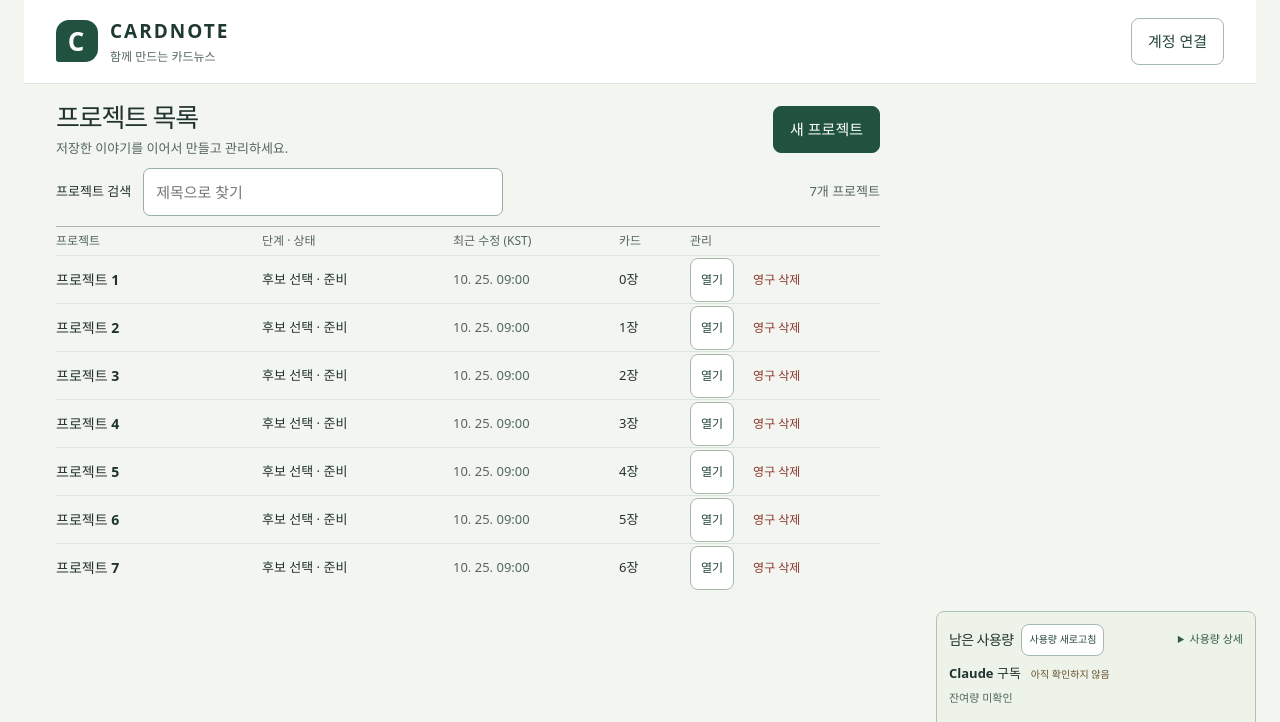
목록에서는 모델 선택을 숨기고 새 프로젝트·제작에서만 표시한다
expect the heading "프로젝트 목록" is shown: met, box [56,99,198,135]
expect the field labelled "Claude 모델" is not shown: met
Step 1. Click the button "새 프로젝트" → (827, 130), box [773,106,880,153]
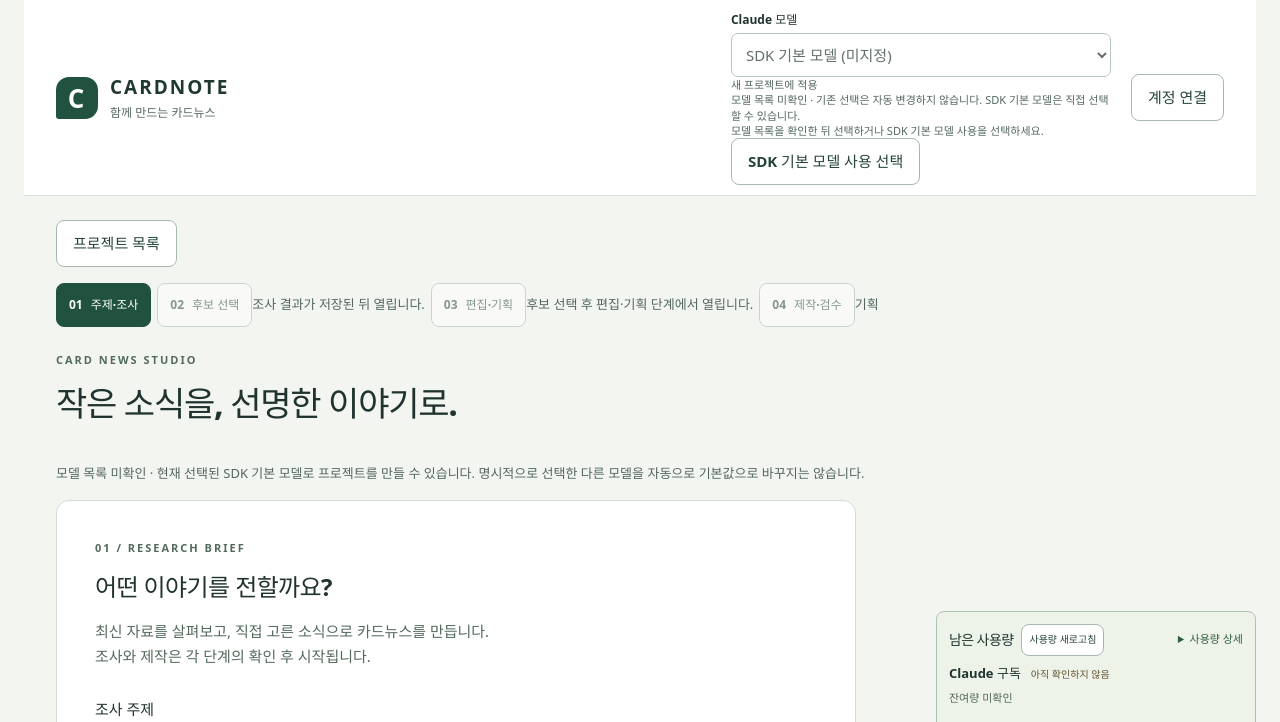
expect the dropdown labelled "Claude 모델" is shown: met, box [731,33,1111,77]
Step 2. Click the button "프로젝트 목록" → (116, 244), box [56,220,177,267]
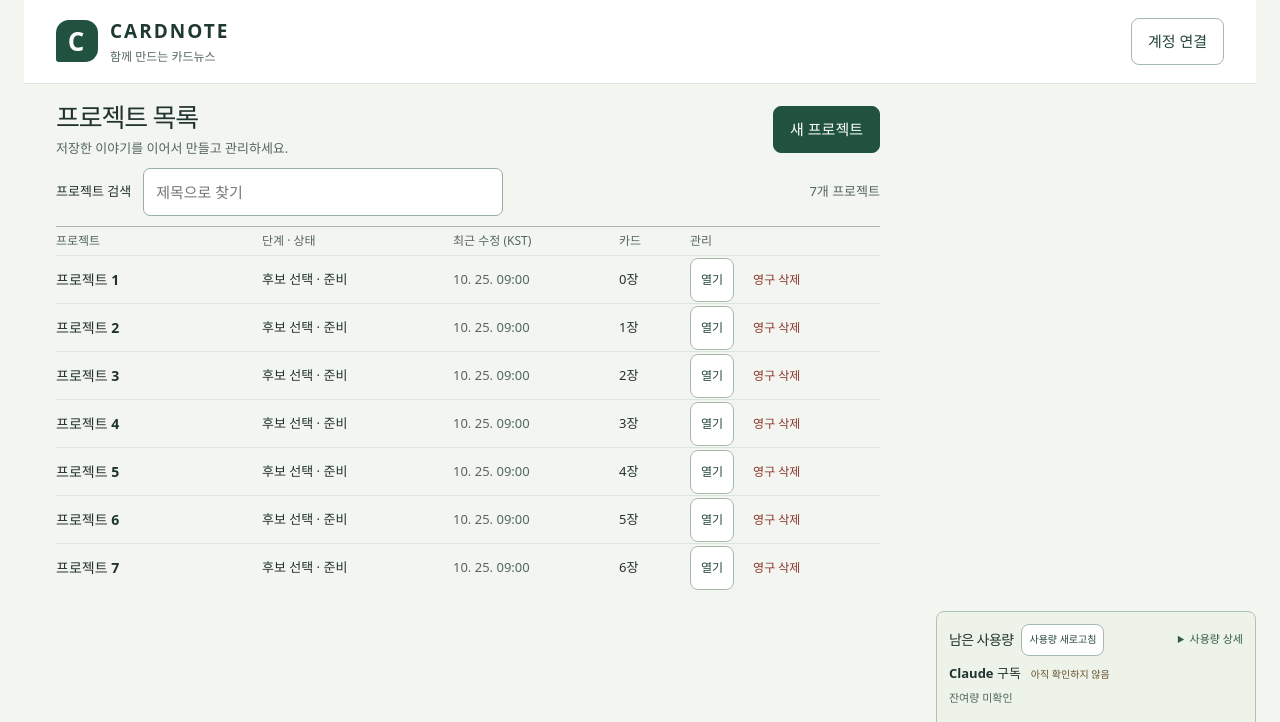
expect the label labelled "Claude 모델" is gone: met
Step 3. Click the button "열기" in the row of "프로젝트 1" → (712, 280), box [690,258,734,302]
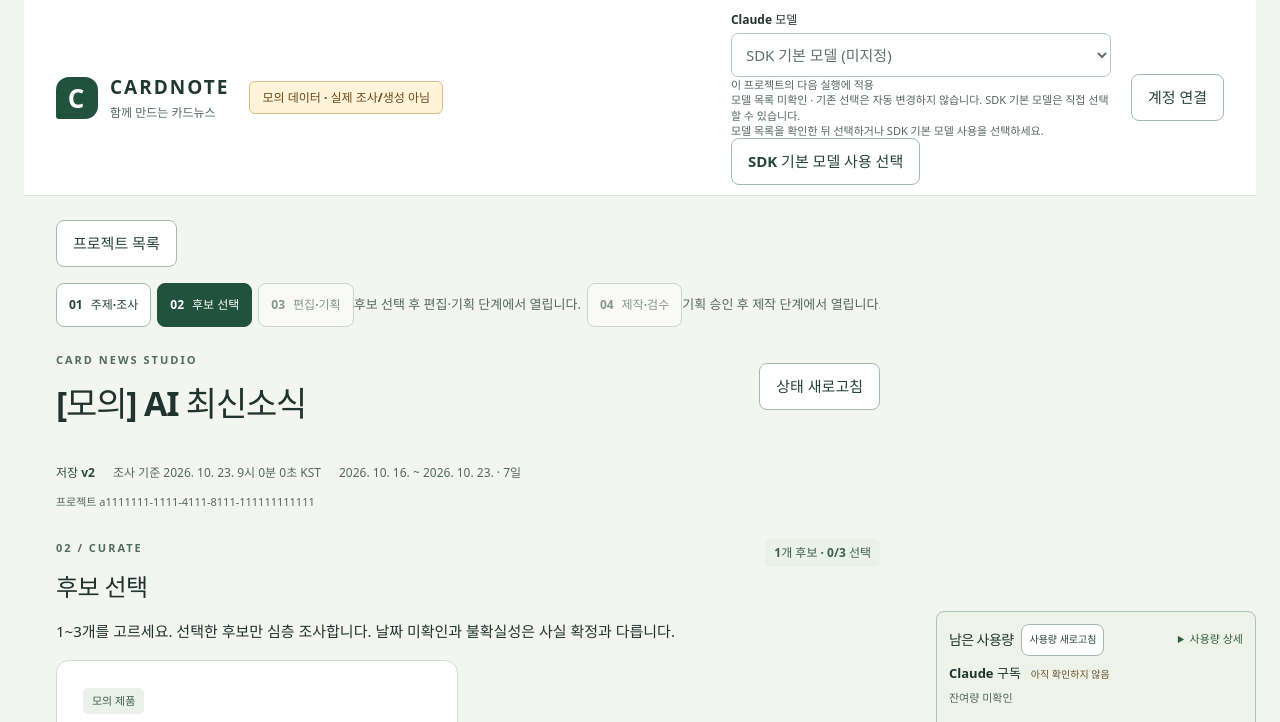
expect the dropdown labelled "Claude 모델" is shown: met, box [731,33,1111,77]
